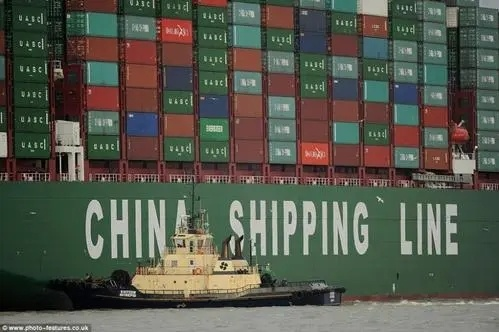Cargoship: (1, 1, 497, 295)
otherboat: (50, 193, 351, 309)
